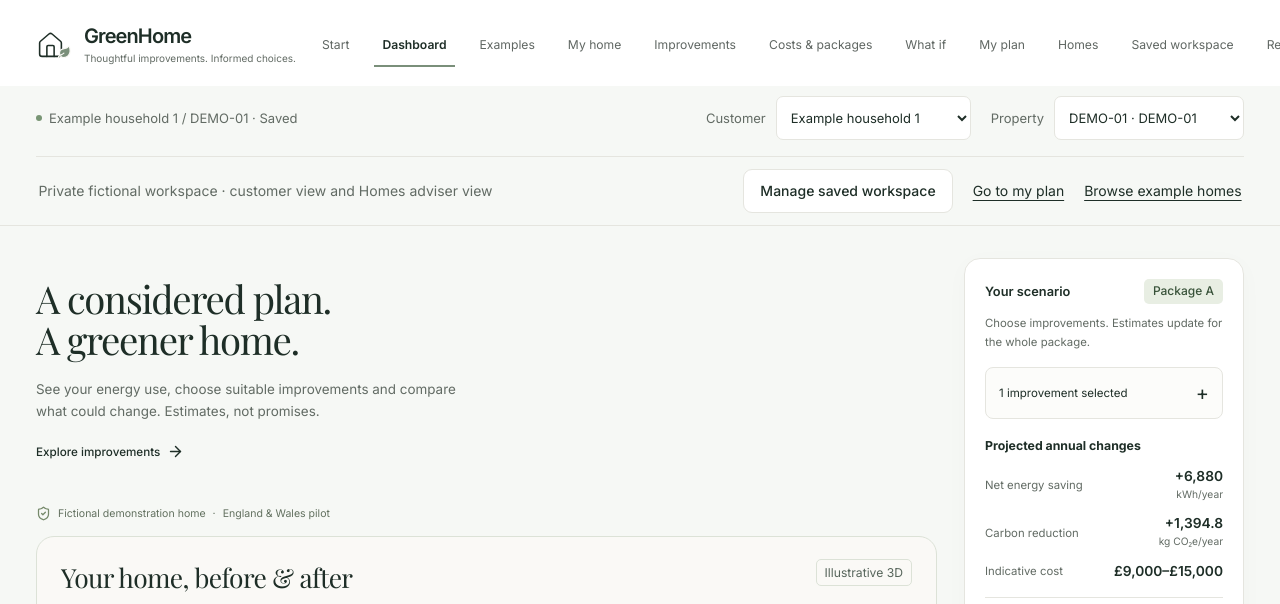
Test case: private fictional workspace journey › keeps own-home screening ephemeral even when a saved workspace exists
Check: the heading "A considered plan.A greener home." is shown, box [36,272,331,366]
Select "Enter your own home" in the dropdown labelled "Customer": {"x": 873, "y": 118} [776,96,971,140]
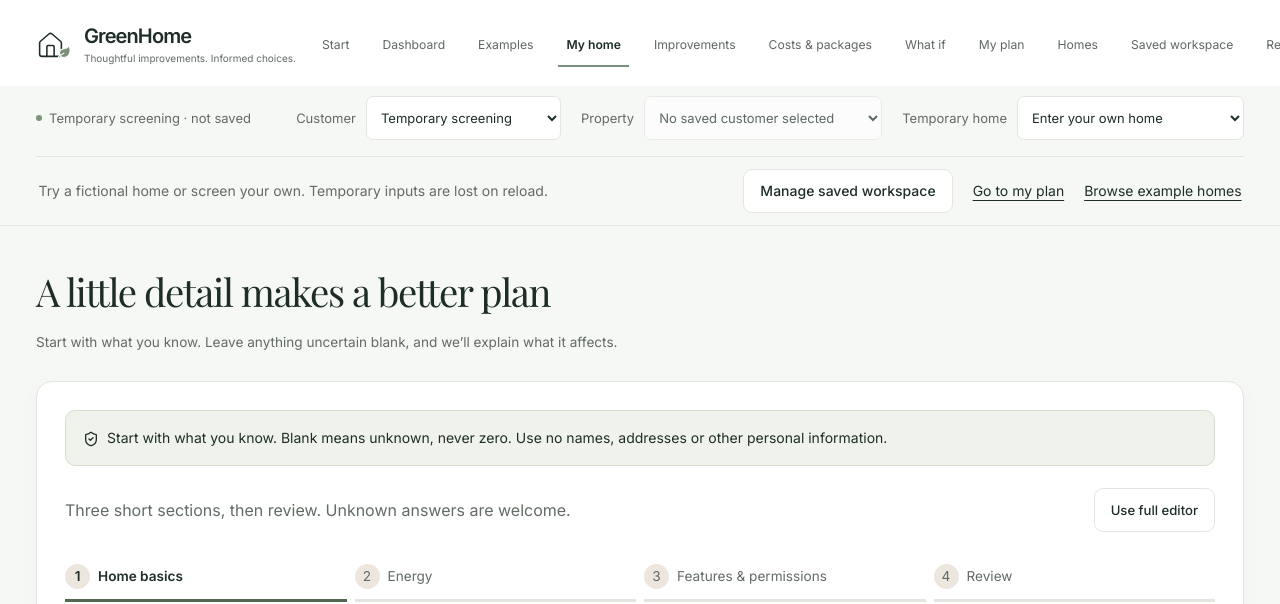
Click the link "Saved workspace": {"x": 1182, "y": 44} [1131,36,1233,52]
(page scrolled)
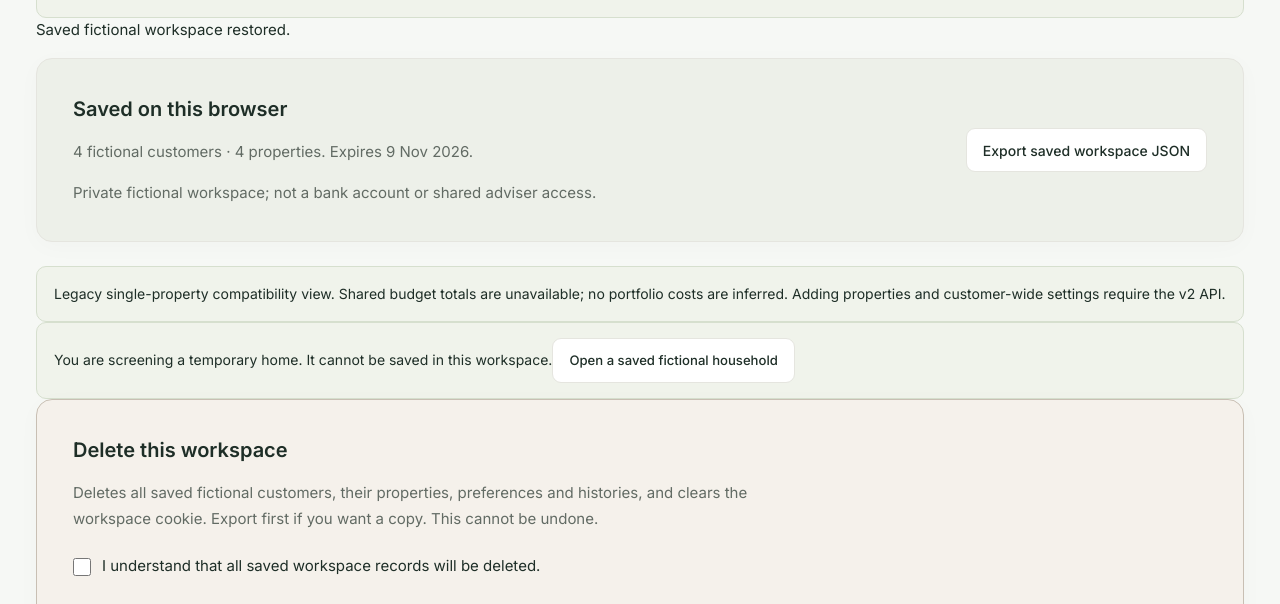
Check: the text "It cannot be saved in this workspace" is shown, box [54,351,552,368]
